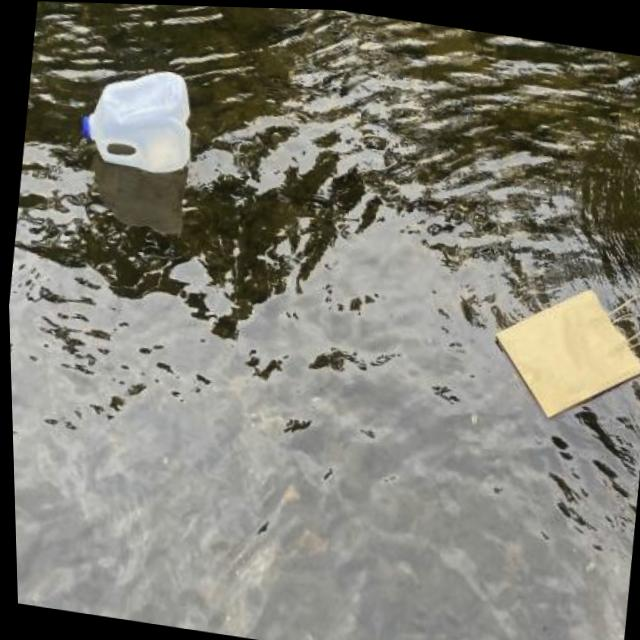Paper: (465, 246, 640, 440)
Plastic: (69, 47, 210, 188)
